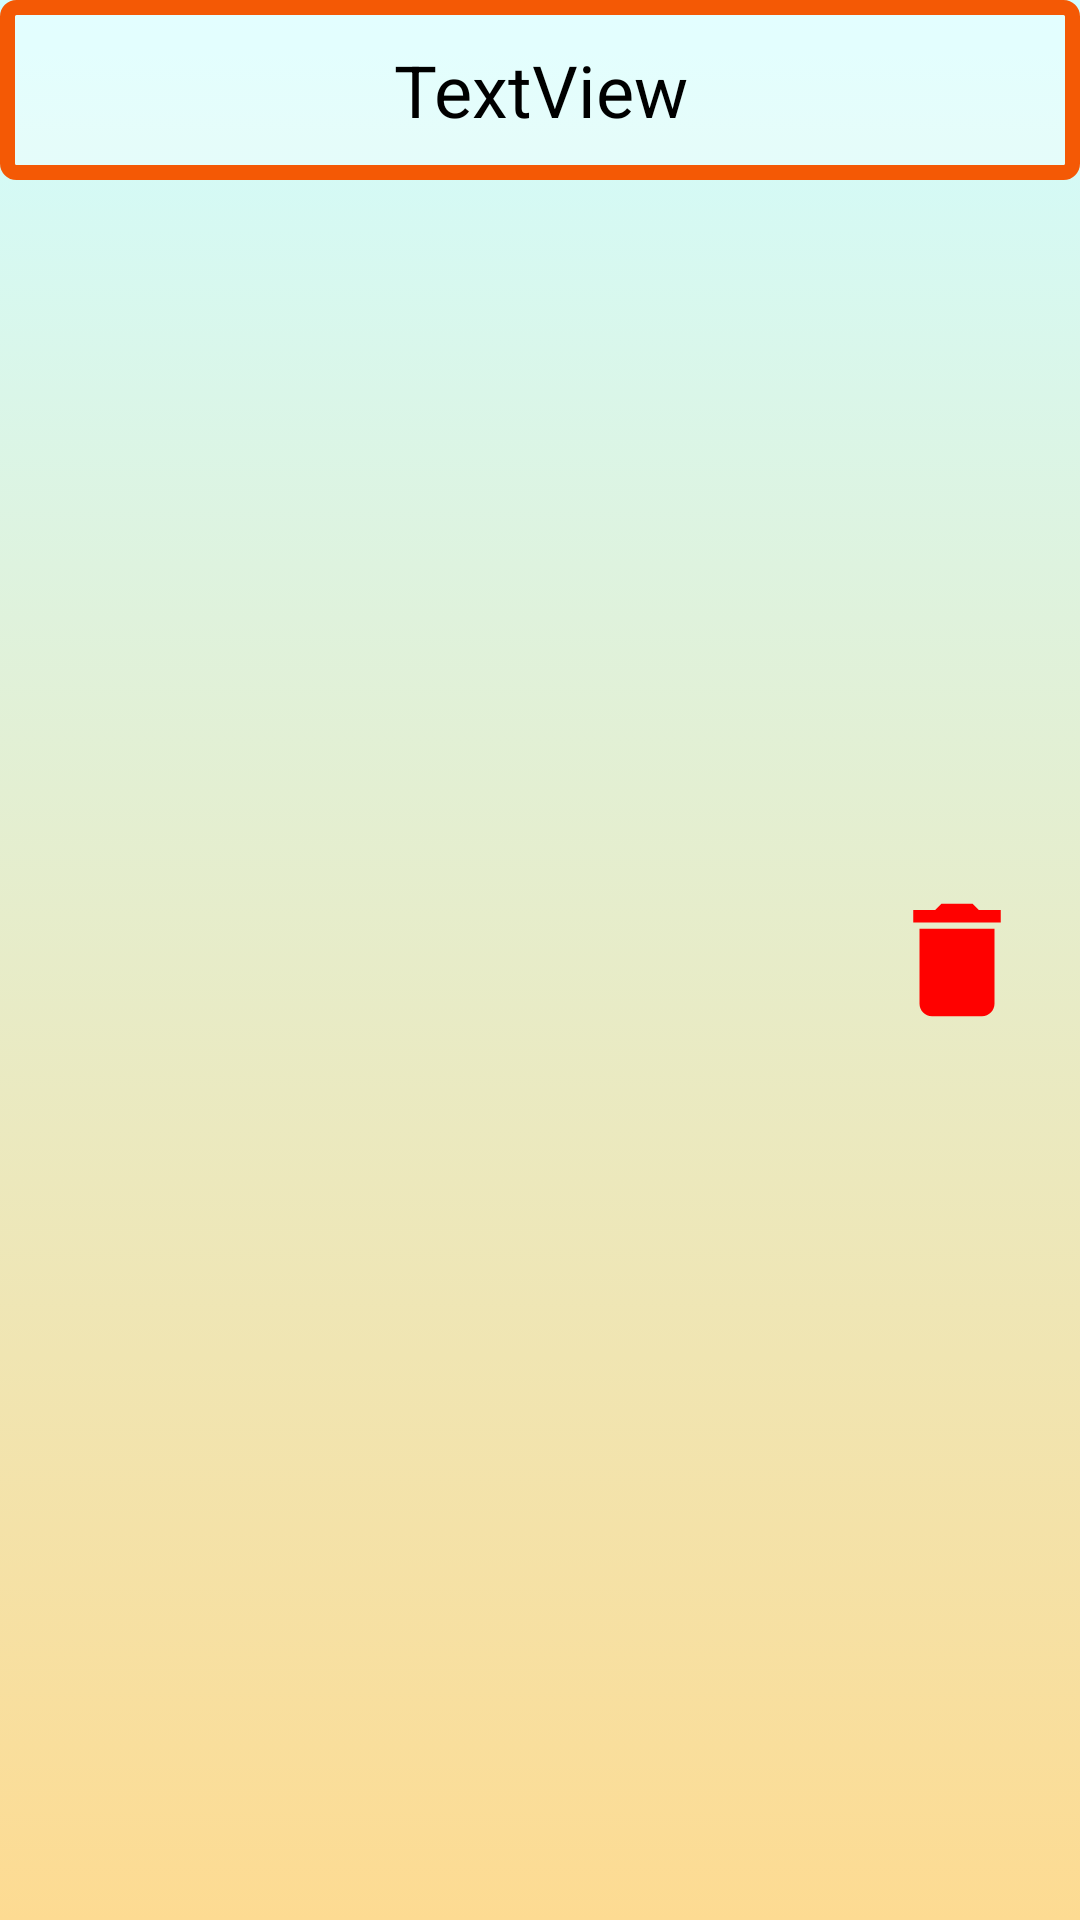

Where icons sit on this 1080 x 1920 app screen, as Rect(x1, y1, x2, y2):
delete: Rect(913, 903, 1001, 1017)
